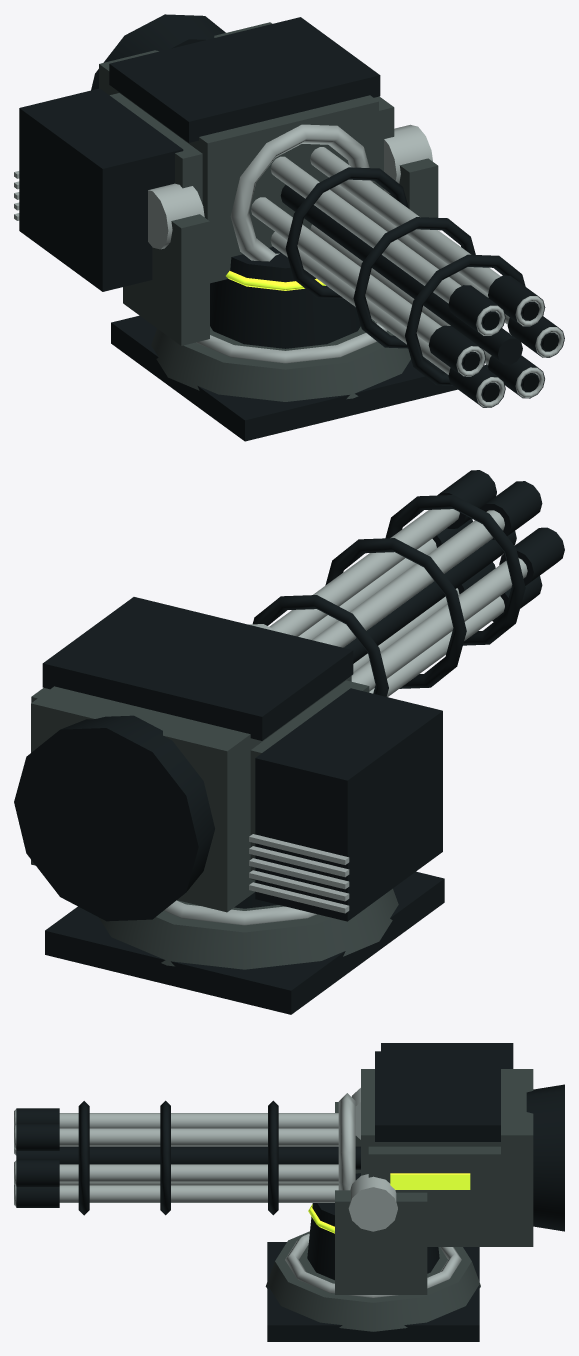
File: rotary-cannon-lod2.glb
3 views of the same model, one above another, from view 1: azimuth 30°, elevation 25°; view 2: azimuth 150°, elevation 25°; view 3: azimuth 270°, elevation 25° (orthographic). The views are drawn at different scales.
Parts seen in each view (by area): view 1: feed__Recessed_carbon_mechanism, armor__Recessed_carbon_mechanism, rotary-barrels__Machined_titanium, receiver__Cerakote_graphite_armor, mount__Cerakote_graphite_armor, mount__Recessed_carbon_mechanism, cradle__Cerakote_graphite_armor, yaw-drive__Recessed_carbon_mechanism, barrel-clamp__Recessed_carbon_mechanism, muzzle-brakes__Recessed_carbon_mechanism, barrel-clamp__Machined_titanium, rotary-barrels__Recessed_carbon_mechanism (+7 smaller); view 2: feed__Recessed_carbon_mechanism, receiver__Recessed_carbon_mechanism, armor__Recessed_carbon_mechanism, rotary-barrels__Machined_titanium, mount__Recessed_carbon_mechanism, receiver__Cerakote_graphite_armor, mount__Cerakote_graphite_armor, barrel-clamp__Recessed_carbon_mechanism, muzzle-brakes__Recessed_carbon_mechanism, feed__Machined_titanium, rotary-barrels__Recessed_carbon_mechanism, mount__Machined_titanium (+1 smaller); view 3: rotary-barrels__Machined_titanium, armor__Recessed_carbon_mechanism, armor__Cerakote_graphite_armor, mount__Cerakote_graphite_armor, cradle__Cerakote_graphite_armor, receiver__Cerakote_graphite_armor, mount__Recessed_carbon_mechanism, rotary-barrels__Recessed_carbon_mechanism, receiver__Recessed_carbon_mechanism, muzzle-brakes__Recessed_carbon_mechanism, barrel-clamp__Recessed_carbon_mechanism, trunnion__Machined_titanium (+5 smaller).
Boxes of the visible parts, left/top/right/bottom form: feed__Recessed_carbon_mechanism: left=19, top=88, right=183, bottom=291; armor__Recessed_carbon_mechanism: left=109, top=17, right=380, bottom=142; rotary-barrels__Machined_titanium: left=251, top=147, right=509, bottom=374; receiver__Cerakote_graphite_armor: left=99, top=22, right=378, bottom=283; mount__Cerakote_graphite_armor: left=151, top=319, right=410, bottom=401; mount__Recessed_carbon_mechanism: left=111, top=315, right=457, bottom=441; cradle__Cerakote_graphite_armor: left=123, top=158, right=438, bottom=345; yaw-drive__Recessed_carbon_mechanism: left=210, top=247, right=360, bottom=348; barrel-clamp__Recessed_carbon_mechanism: left=285, top=167, right=525, bottom=385; muzzle-brakes__Recessed_carbon_mechanism: left=428, top=275, right=564, bottom=407; barrel-clamp__Machined_titanium: left=230, top=124, right=373, bottom=261; rotary-barrels__Recessed_carbon_mechanism: left=280, top=184, right=522, bottom=364; feed__Recessed_carbon_mechanism: left=255, top=688, right=442, bottom=921; receiver__Recessed_carbon_mechanism: left=14, top=715, right=214, bottom=921; armor__Recessed_carbon_mechanism: left=42, top=597, right=353, bottom=740; rotary-barrels__Machined_titanium: left=269, top=509, right=527, bottom=697; mount__Recessed_carbon_mechanism: left=45, top=871, right=444, bottom=1014; receiver__Cerakote_graphite_armor: left=31, top=676, right=351, bottom=912; mount__Cerakote_graphite_armor: left=99, top=888, right=398, bottom=969; barrel-clamp__Recessed_carbon_mechanism: left=252, top=495, right=525, bottom=696; muzzle-brakes__Recessed_carbon_mechanism: left=432, top=470, right=564, bottom=621; feed__Machined_titanium: left=249, top=834, right=349, bottom=913; rotary-barrels__Recessed_carbon_mechanism: left=343, top=531, right=516, bottom=663; mount__Machined_titanium: left=164, top=900, right=316, bottom=925; rotary-barrels__Machined_titanium: left=59, top=1113, right=338, bottom=1202; armor__Recessed_carbon_mechanism: left=375, top=1051, right=500, bottom=1141; armor__Cerakote_graphite_armor: left=368, top=1146, right=500, bottom=1243; mount__Cerakote_graphite_armor: left=265, top=1231, right=480, bottom=1331; cradle__Cerakote_graphite_armor: left=335, top=1102, right=427, bottom=1294; receiver__Cerakote_graphite_armor: left=361, top=1069, right=533, bottom=1246; mount__Recessed_carbon_mechanism: left=267, top=1242, right=479, bottom=1341; rotary-barrels__Recessed_carbon_mechanism: left=16, top=1146, right=360, bottom=1169; receiver__Recessed_carbon_mechanism: left=526, top=1084, right=564, bottom=1231; muzzle-brakes__Recessed_carbon_mechanism: left=16, top=1108, right=59, bottom=1207; barrel-clamp__Recessed_carbon_mechanism: left=78, top=1100, right=278, bottom=1215; trunnion__Machined_titanium: left=348, top=1088, right=397, bottom=1231.
Size of the model in its own units: 1.86 by 1.52 by 3.58.
